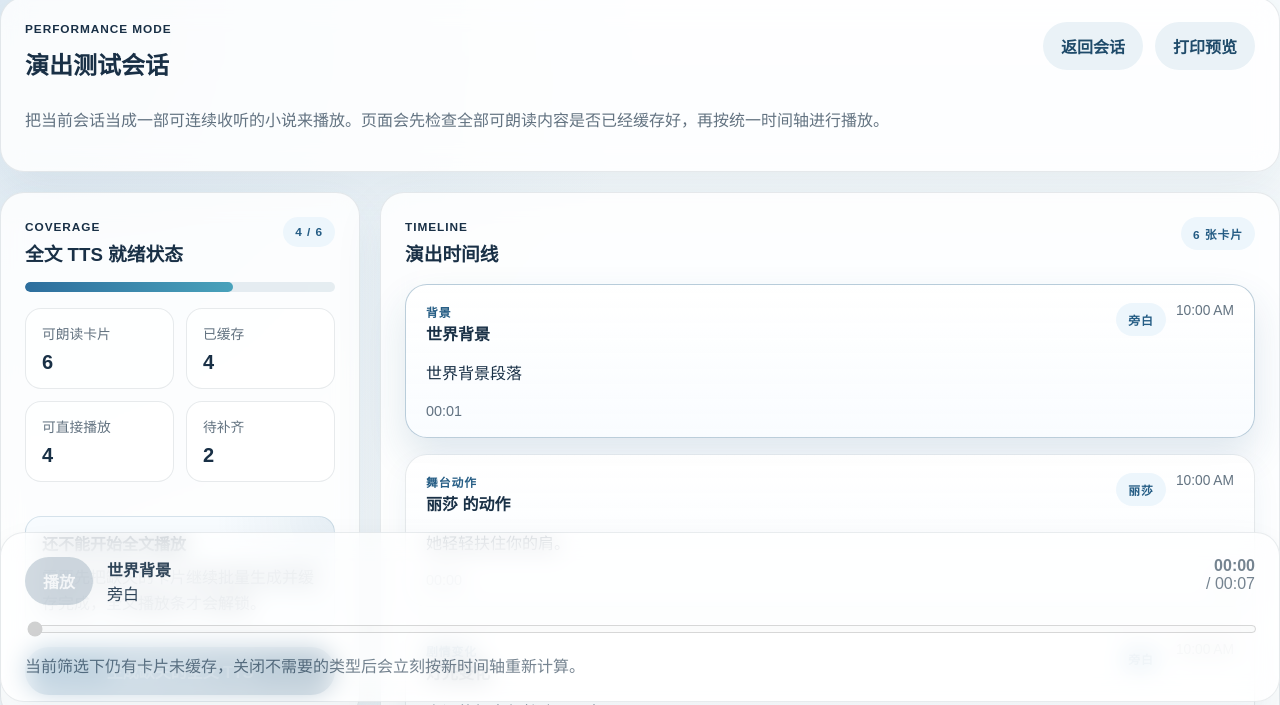
Test: PerformanceModePage › allows double-click preview for a cached card even before full playback is ready
The width and height of the screenshot is (1280, 705).
Double-click the element showing "背景 世界背景 旁白 10:00 AM 世界背景段落 00:01".
double_click(830, 361)  # box 405,284 -> 1255,438
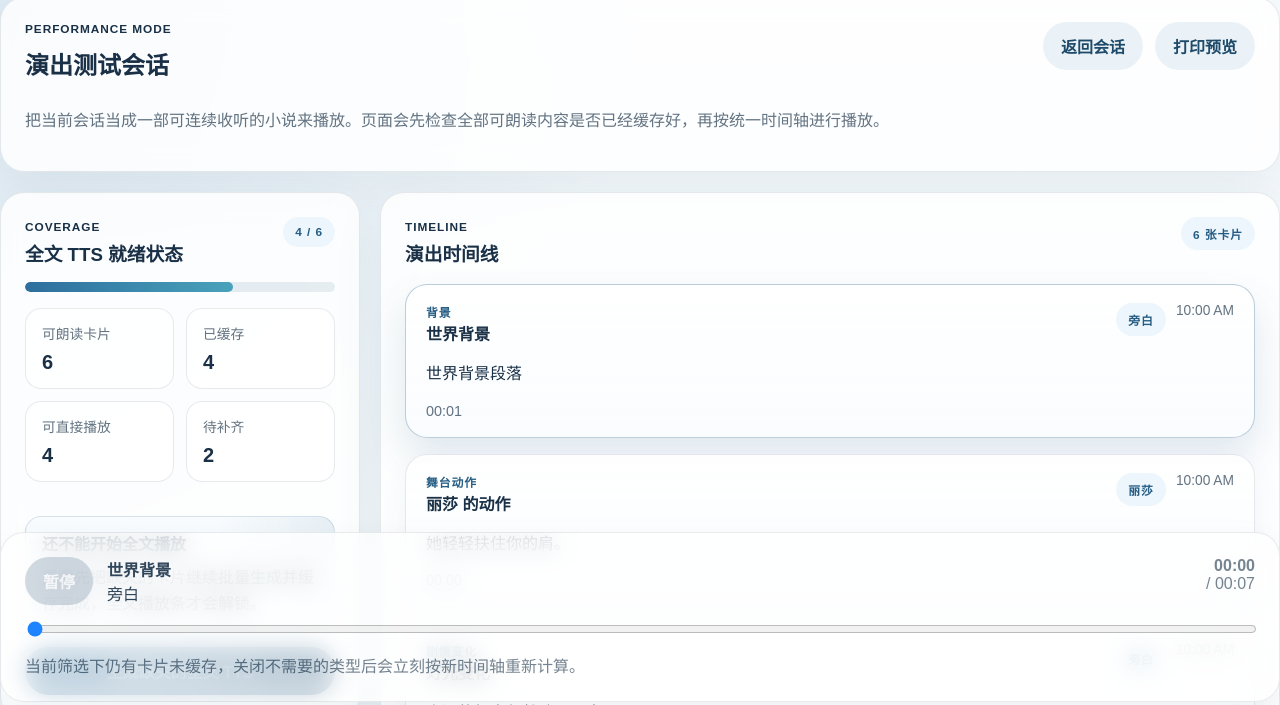
Now the slider is enabled, box 27,621 -> 1257,637
